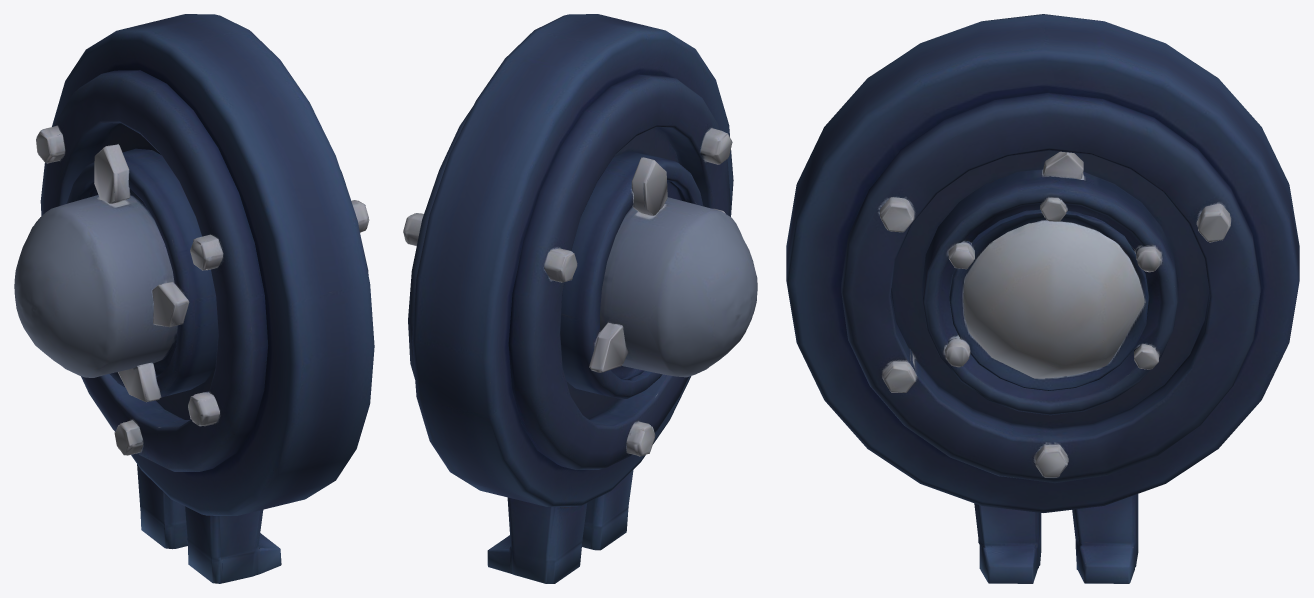
The model's file is polypal_flywheel.glb.
3 views of the same model, side by side, from view 1: azimuth 30°, elevation 25°; view 2: azimuth 150°, elevation 25°; view 3: azimuth 270°, elevation 25° (orthographic). The views are drawn at different scales.
Parts seen in each view (by area): view 1: tripo_node_80f98d52-c0a5-4a98-8b74-ccd2414c82f3; view 2: tripo_node_80f98d52-c0a5-4a98-8b74-ccd2414c82f3; view 3: tripo_node_80f98d52-c0a5-4a98-8b74-ccd2414c82f3.
Boxes of the visible parts, box(x1,y1,x2,y2) form: tripo_node_80f98d52-c0a5-4a98-8b74-ccd2414c82f3: box(14, 14, 374, 583); tripo_node_80f98d52-c0a5-4a98-8b74-ccd2414c82f3: box(403, 14, 757, 583); tripo_node_80f98d52-c0a5-4a98-8b74-ccd2414c82f3: box(786, 14, 1299, 583).
Bounding box in the file's own units: 0.5879 × 0.998 × 0.877.
Materials: 1 (1 with a texture image).
